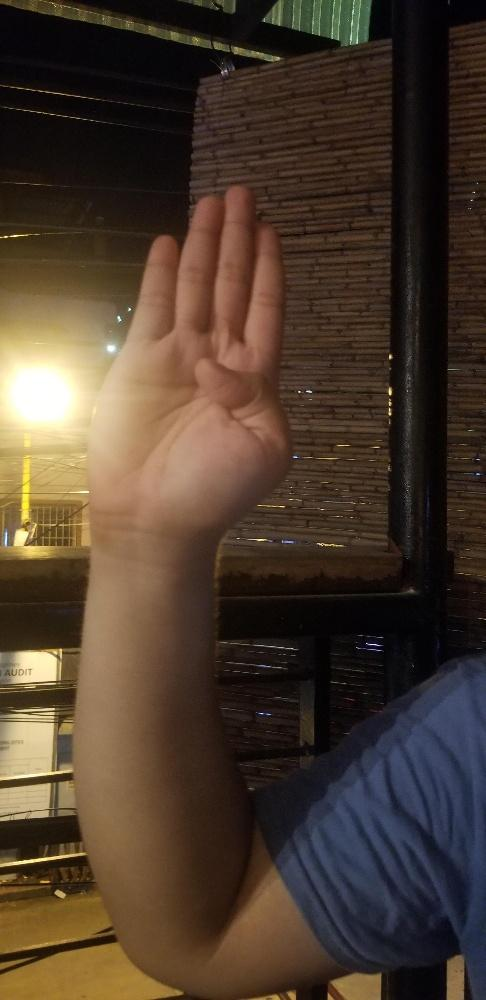b: (83, 181, 296, 529)
